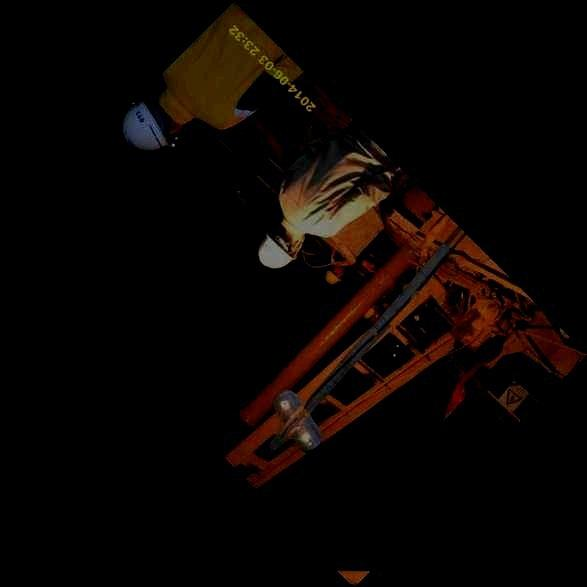helmet: (123, 101, 177, 150), (258, 221, 305, 268)
